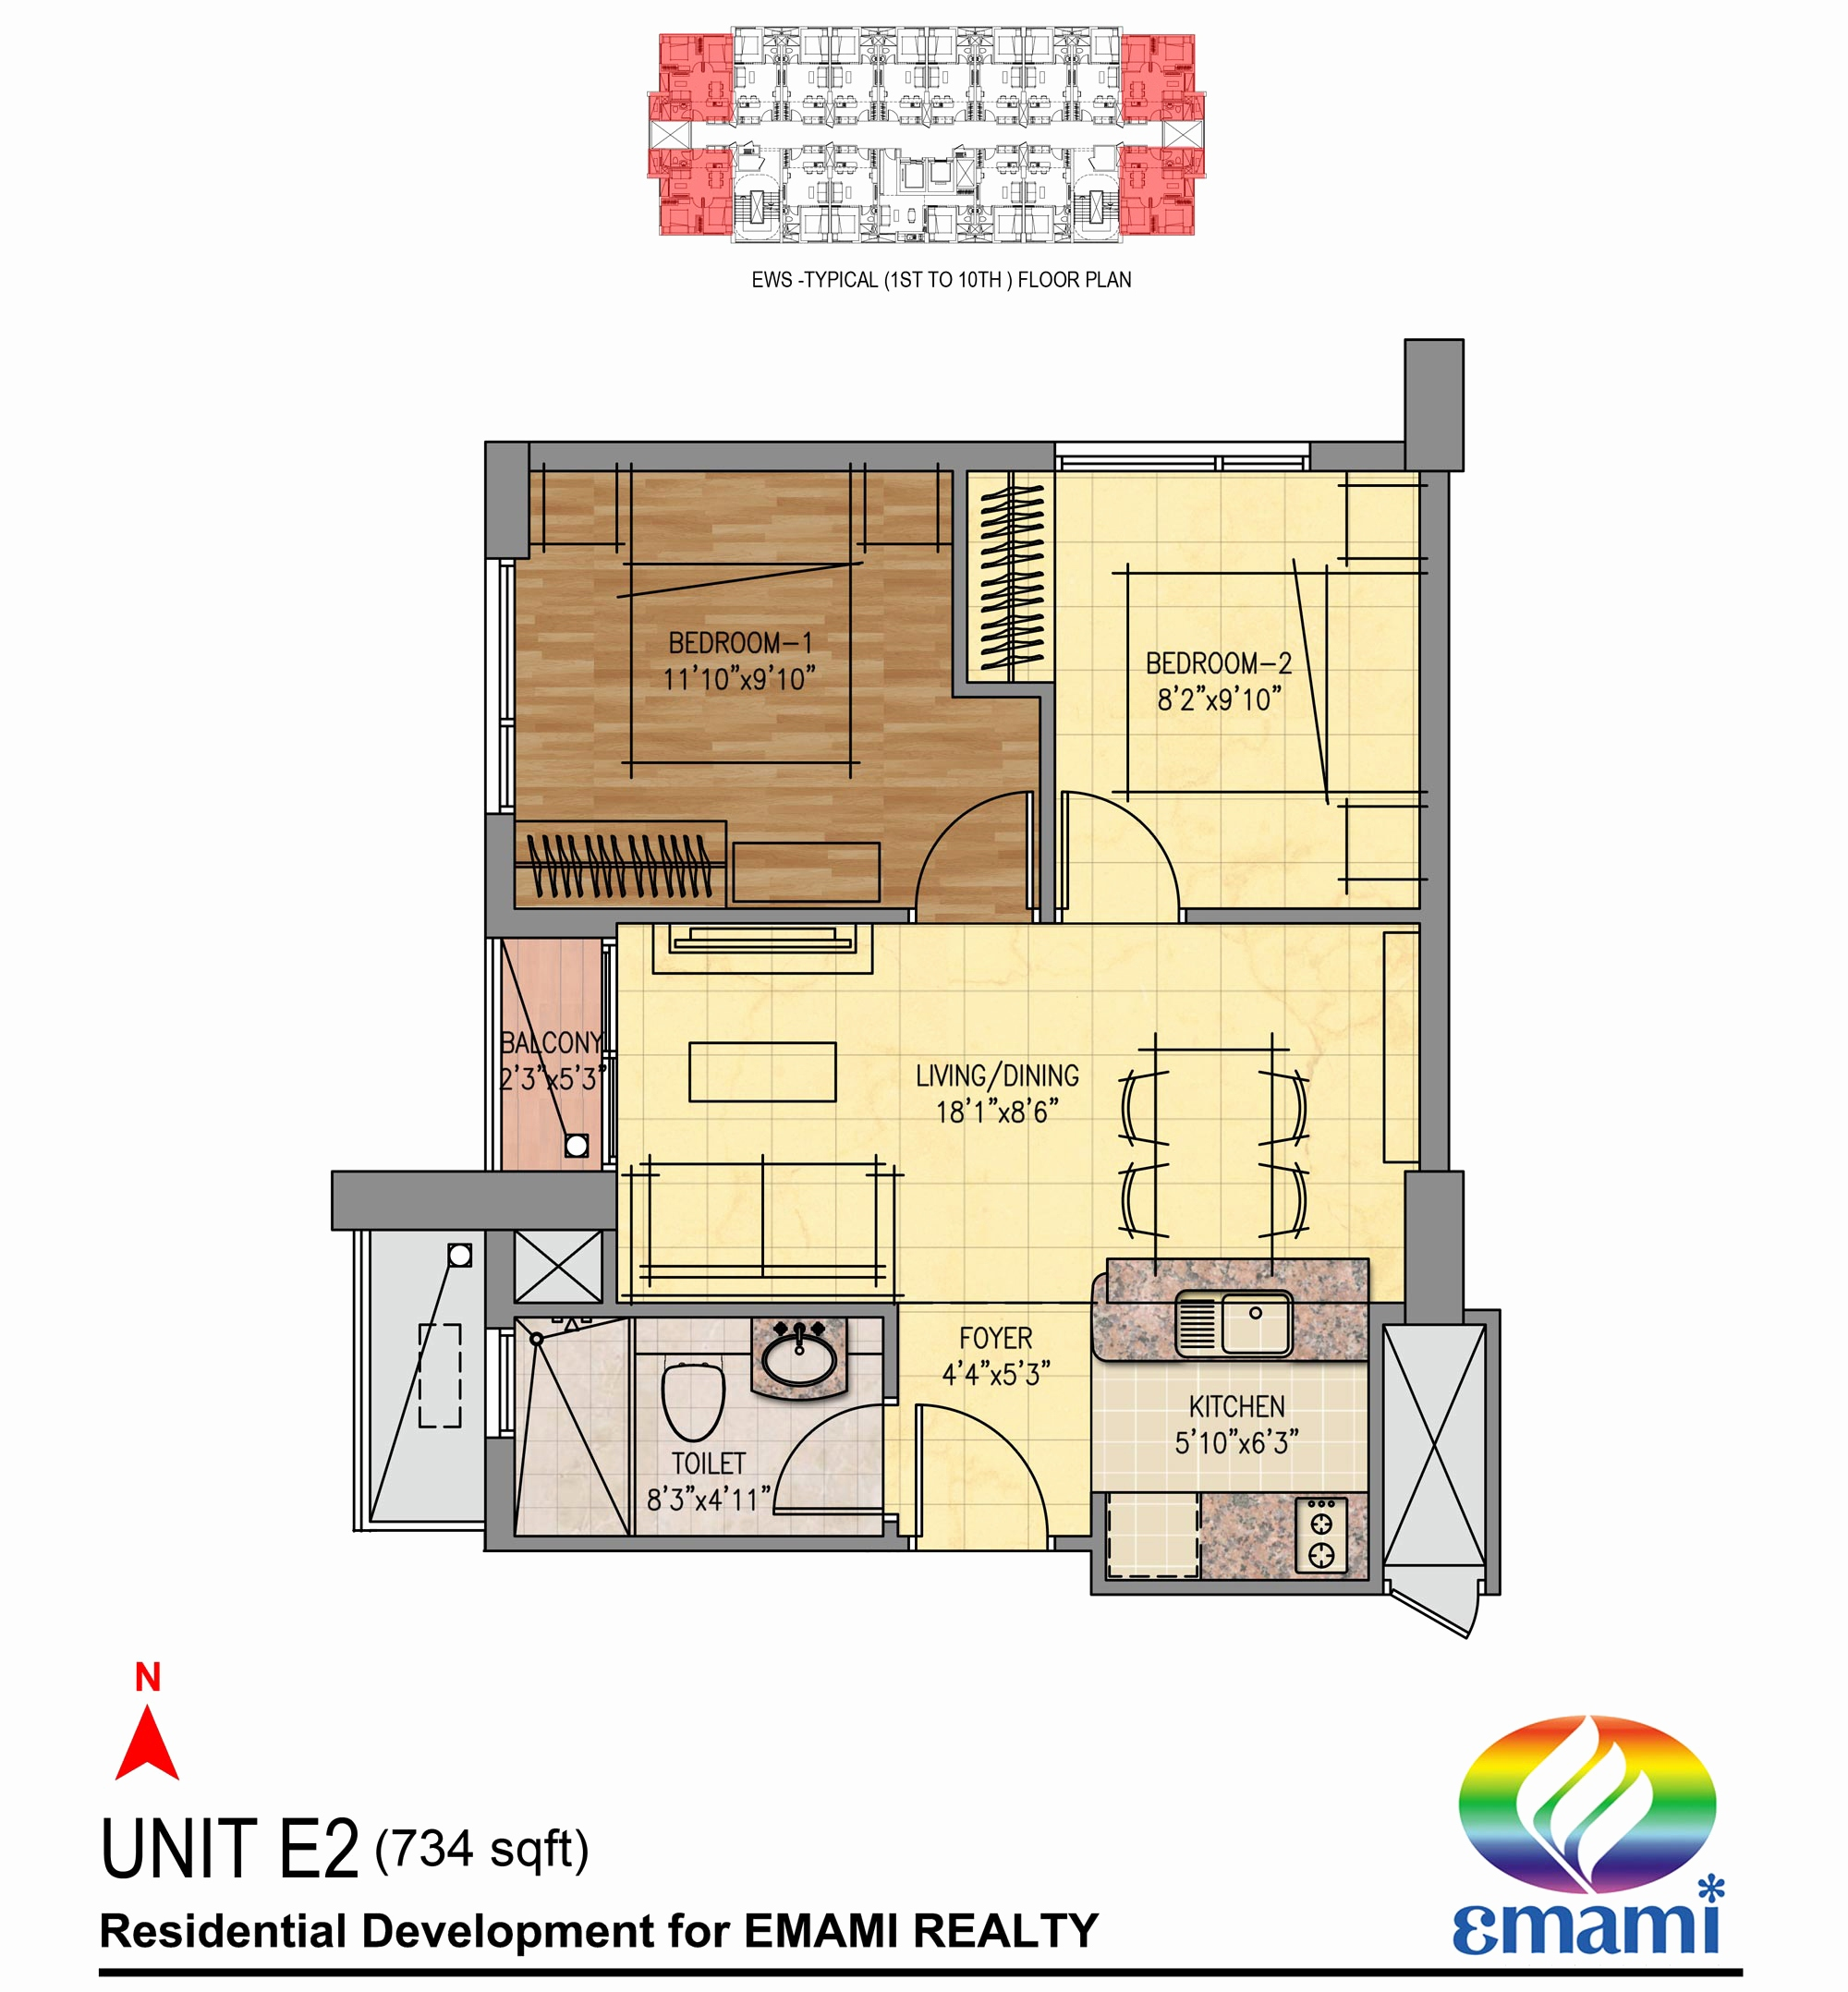window: (481, 554, 521, 818), (1051, 438, 1317, 476), (481, 1323, 519, 1447)
